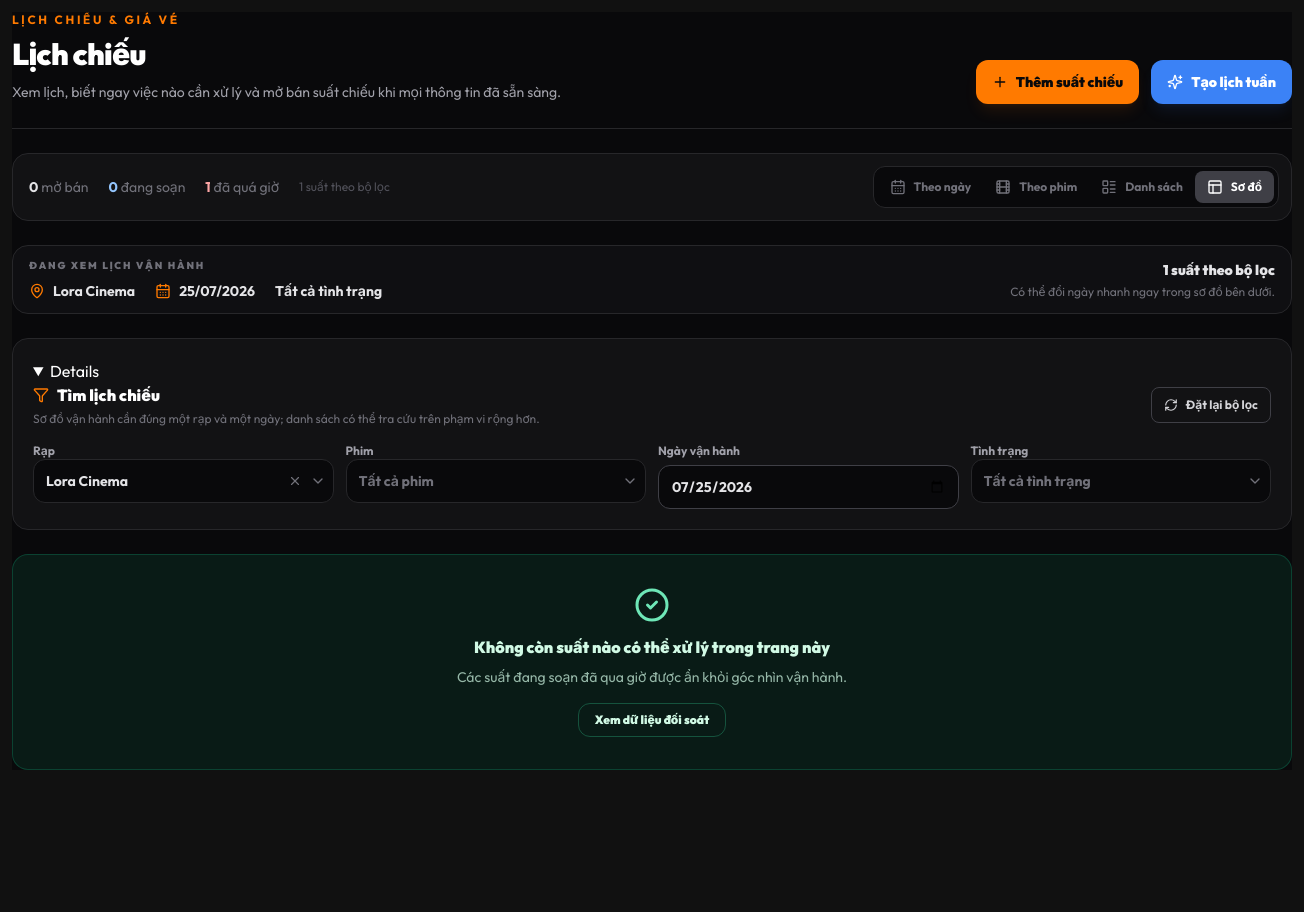
Test: ShowtimeTable cinema timezone › hides expired drafts from operational views and keeps them in the audit list
Expected: the element named "Tóm tắt lịch chiếu" shows "1 đã quá giờ", [12,153,1292,221]
Expected: the heading "Không còn suất nào có thể xử lý trong trang này" is shown, [474,637,830,657]
What coordinates should you click on to do the following:
click the button "Xem dữ liệu đối soát"
I would click on:
 (652, 720)
Its box is [578,703,726,737].
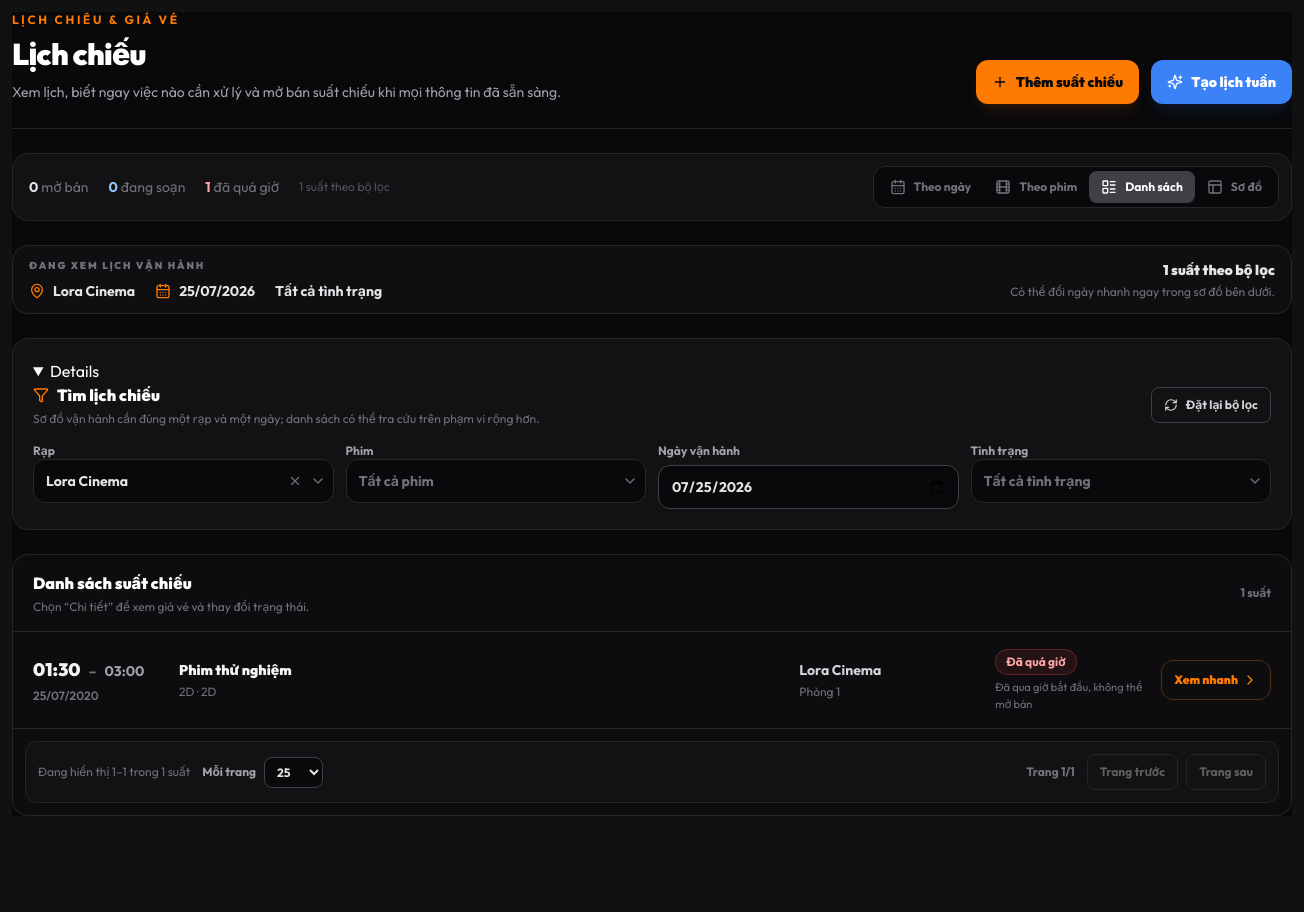
Now the element "Danh sách suất chiếu" shows "Đã quá giờ", box [1006,654,1066,669]
Now the element "Danh sách suất chiếu" shows "không thể mở bán", box [995,680,1142,710]
